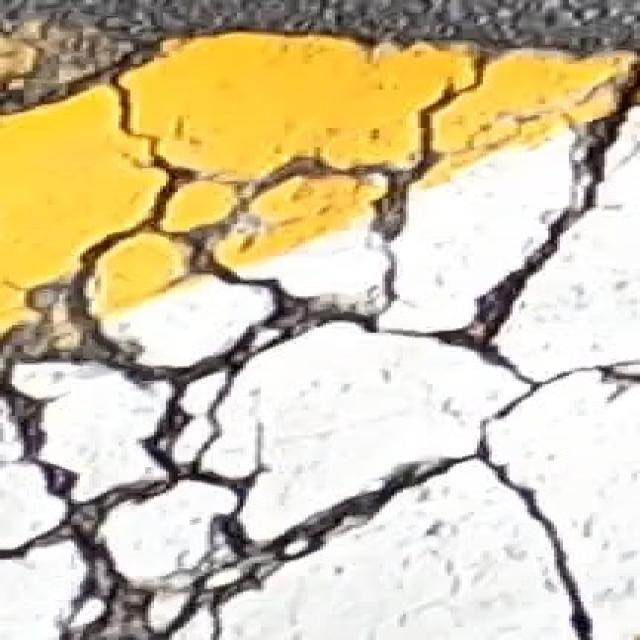PIEL DE COCODRILO: (0, 15, 639, 639)
